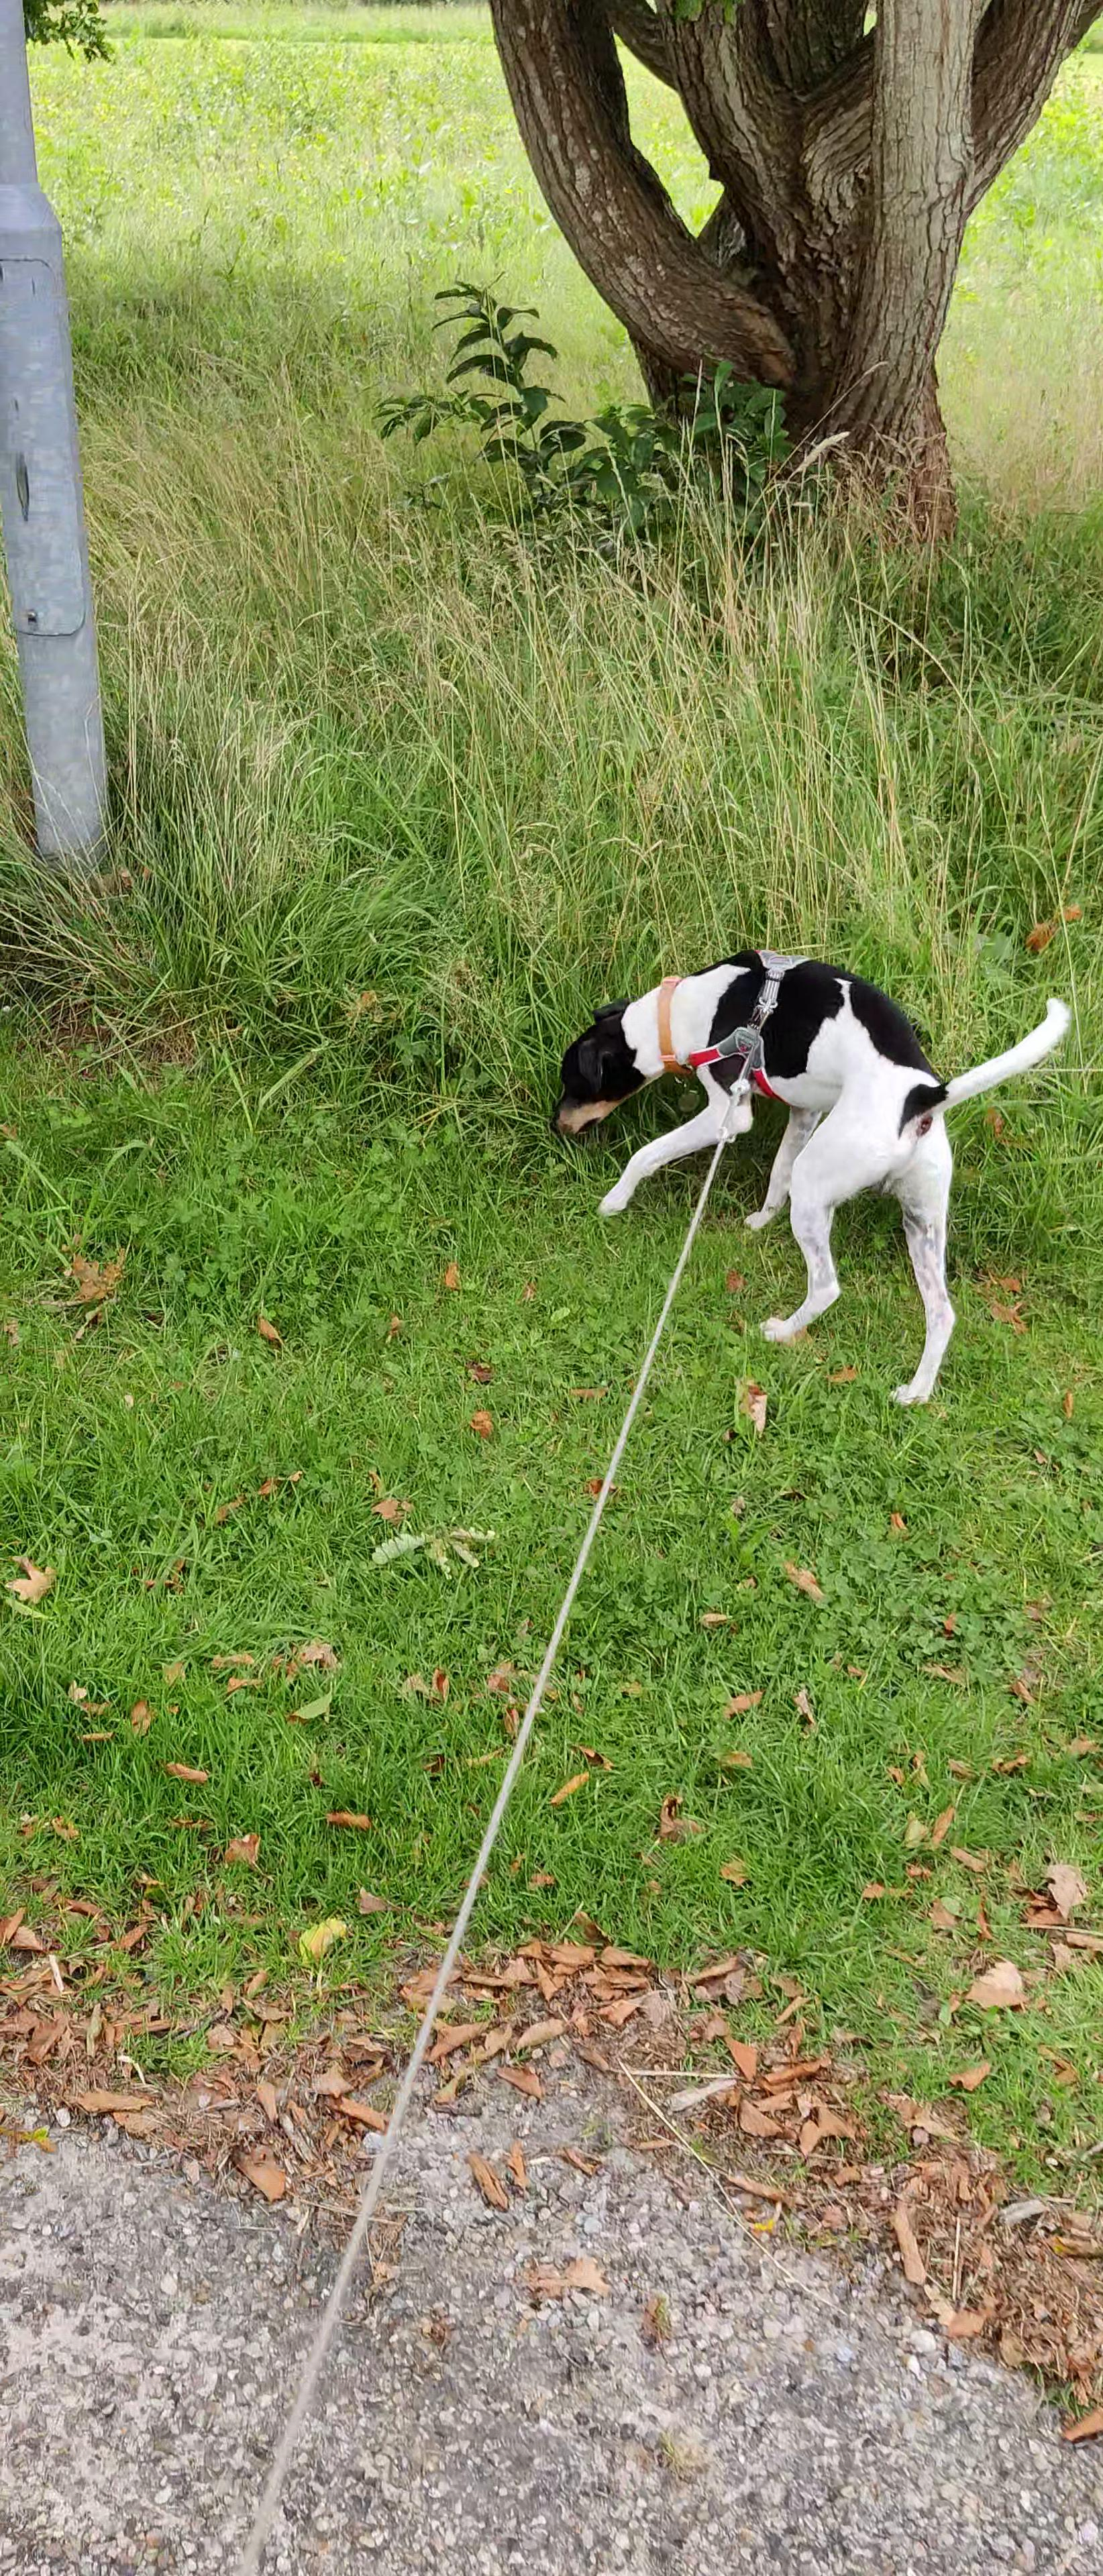Dog: (546, 912, 1088, 1411)
